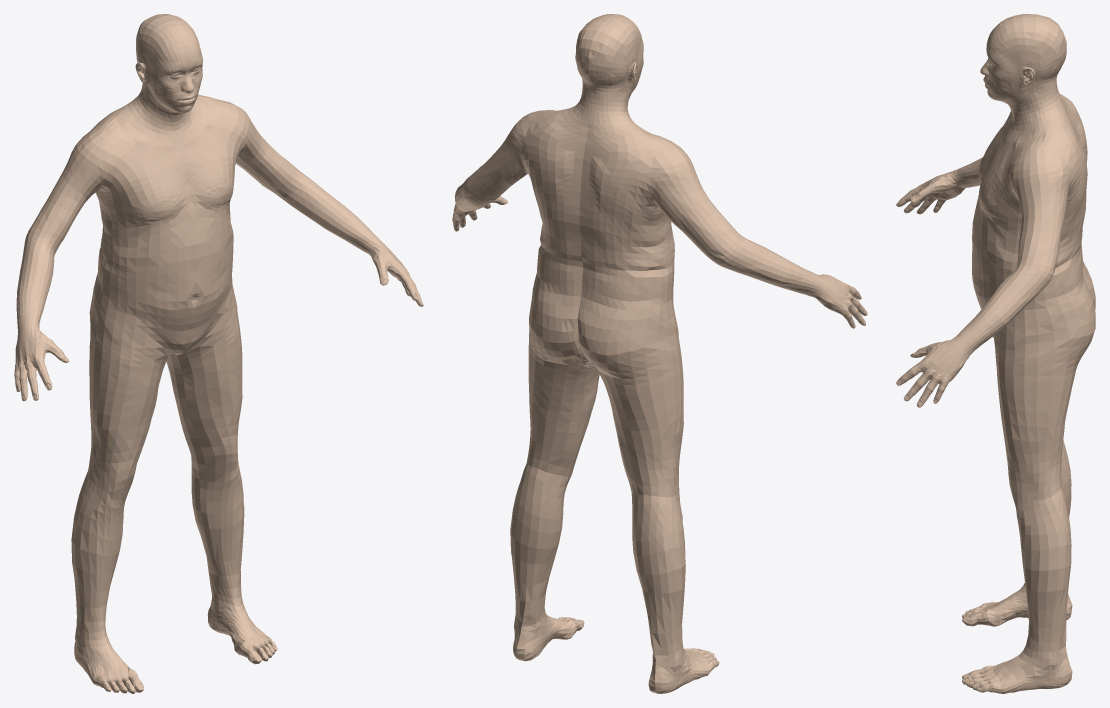
File: male-adult-heavy-low.glb
3 views of the same model, side by side, from view 1: azimuth 30°, elevation 25°; view 2: azimuth 150°, elevation 25°; view 3: azimuth 270°, elevation 25° (orthographic).
Parts seen in each view (by area): view 1: world; view 2: world; view 3: world.
Part boxes in pixels (x1=…): world: x1=14, y1=14, x2=423, y2=693; world: x1=452, y1=14, x2=867, y2=693; world: x1=896, y1=14, x2=1095, y2=693.
Size of the model in its own units: 1.28 by 1.95 by 0.5532.
